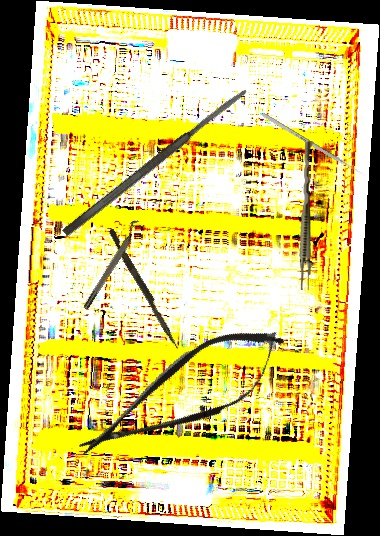Fixation Ring: (77, 217, 146, 312)
Micro Scissor: (63, 307, 301, 483)
Pusher: (105, 228, 184, 351), (261, 112, 367, 178)
Spatula Surgical: (60, 86, 251, 238)
Tissue Forceps: (299, 141, 313, 290)
